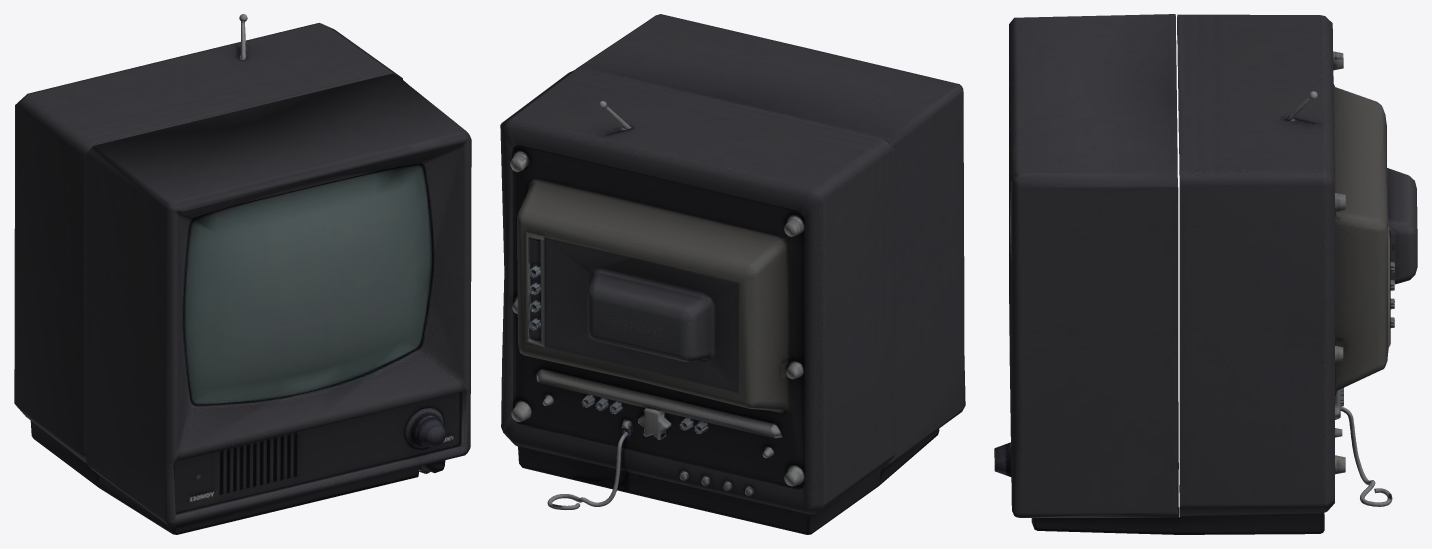
The model's file is tv-console.glb.
3 views of the same model, side by side, from view 1: azimuth 30°, elevation 25°; view 2: azimuth 150°, elevation 25°; view 3: azimuth 270°, elevation 25° (orthographic). The views are drawn at different scales.
Parts seen in each view (by area): view 1: fa4e7549_8cac_4fde_9d4e_bb367c5c2a7e; view 2: fa4e7549_8cac_4fde_9d4e_bb367c5c2a7e; view 3: fa4e7549_8cac_4fde_9d4e_bb367c5c2a7e.
Part boxes in pixels (x1=…): fa4e7549_8cac_4fde_9d4e_bb367c5c2a7e: x1=14, y1=14, x2=471, y2=534; fa4e7549_8cac_4fde_9d4e_bb367c5c2a7e: x1=500, y1=14, x2=965, y2=534; fa4e7549_8cac_4fde_9d4e_bb367c5c2a7e: x1=994, y1=14, x2=1417, y2=534.
Bounding box in the file's own units: 0.8892 × 0.9995 × 0.9478.
Materials: 1 (1 with a texture image).
